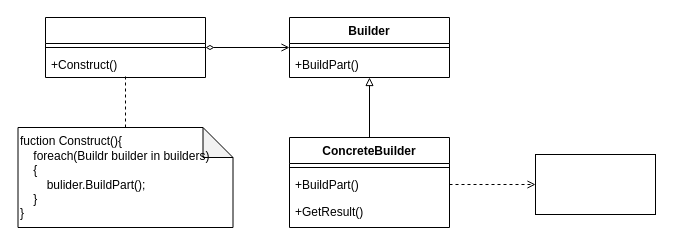
Image size: 673x245. Some labels were removed from this diagram. The shapes that lost their labels are listed below. From the top down, each one's box as (x1, y1, x2, y2) in pixels, then its label:
(44, 16, 206, 78): Director
(534, 154, 656, 214): Product
